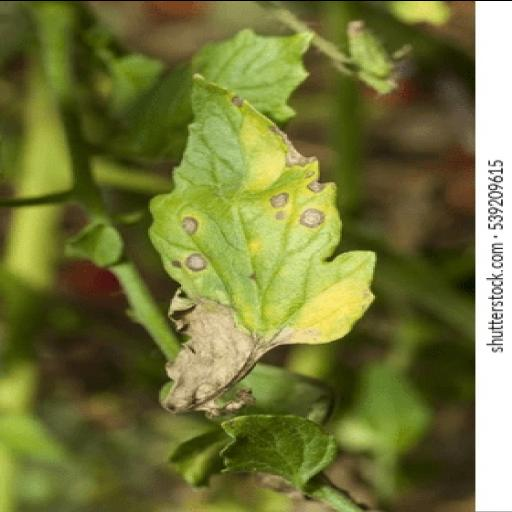Early Blight: (142, 72, 378, 408)
